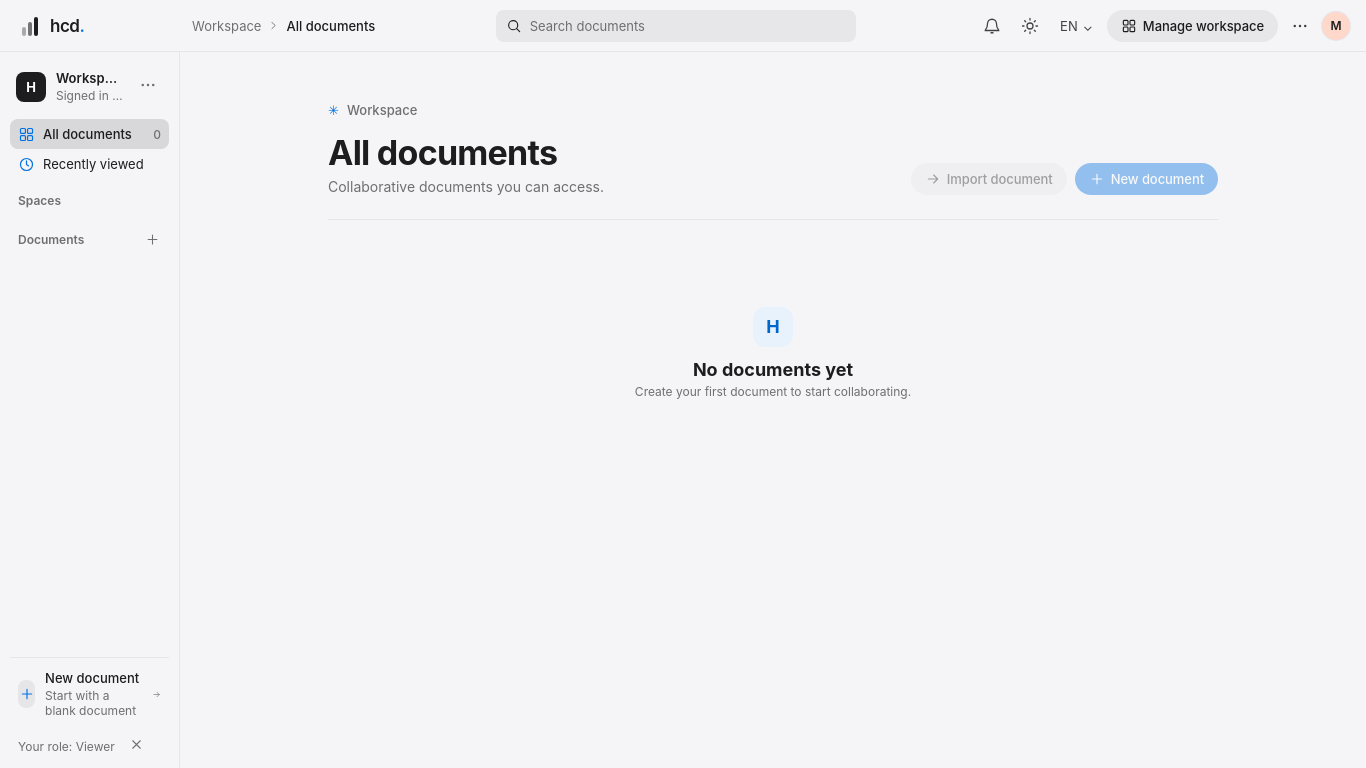
Test: personal account settings integration (synthetic DOM) › B7 exposes the password form within personal settings
Click the button named "Settings" at (1300, 26), box [1284,10,1316,42]
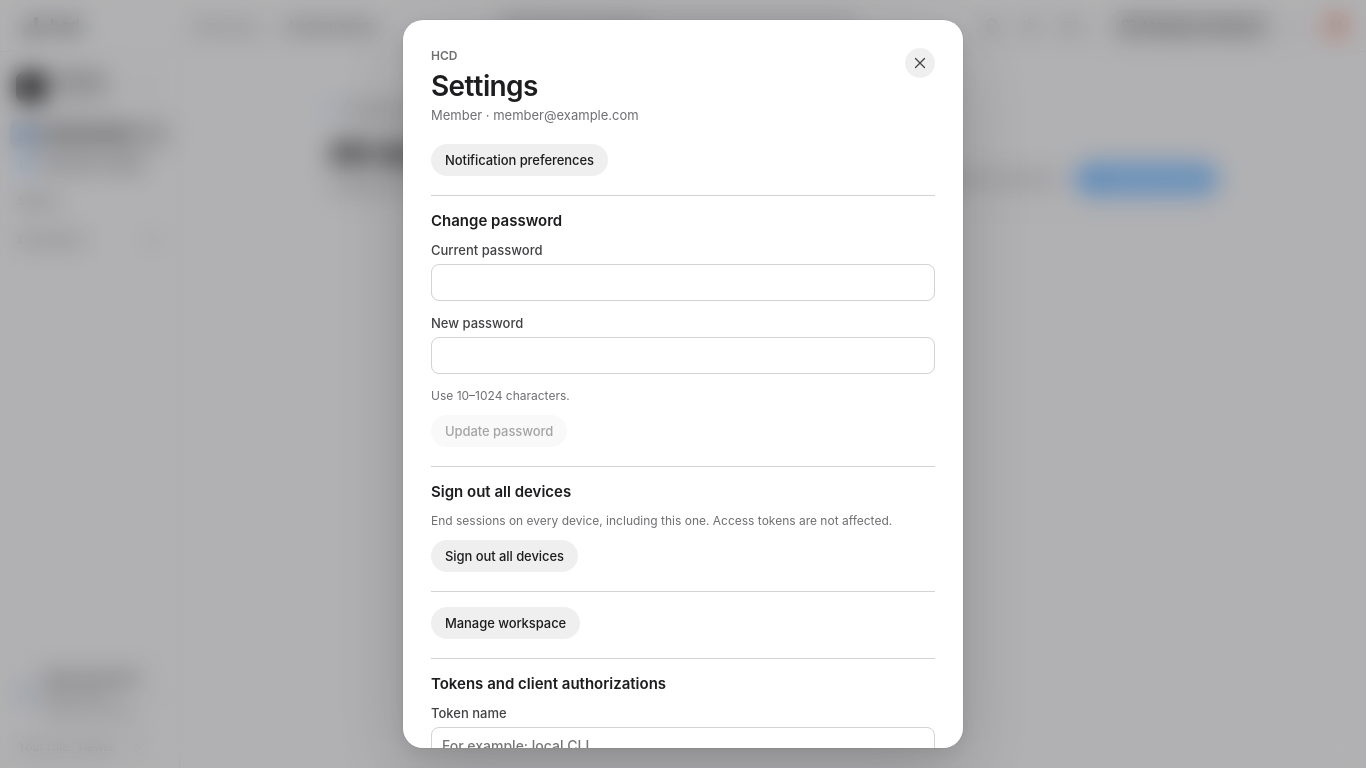
Expected: the form that starts with "Current password" is shown, [431,242,935,447]
Expected: the dialog with class "settings-modal" shows "Current password", [431,242,542,258]
